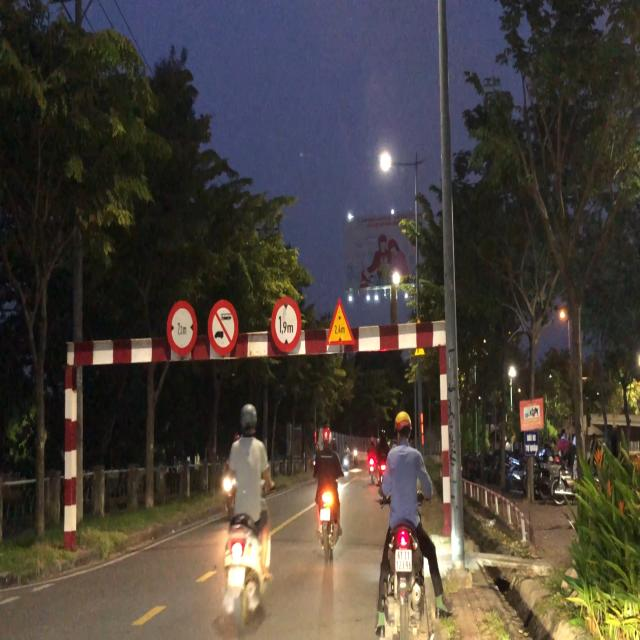Bien bao cam xe oto khach va xe oto tai: (208, 294, 238, 356)
Bien bao chieu cao tinh khong thuc te: (325, 296, 357, 350)
Bien bao han che chieu cao: (271, 292, 304, 354)
